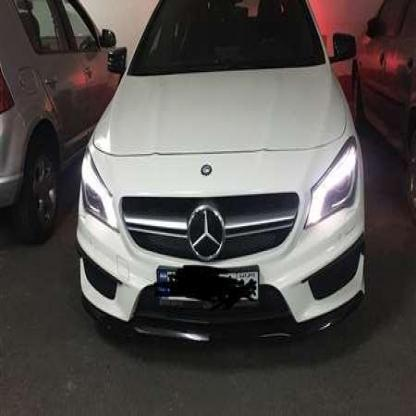Car: (83, 14, 374, 363), (0, 0, 117, 212), (351, 0, 415, 234)
